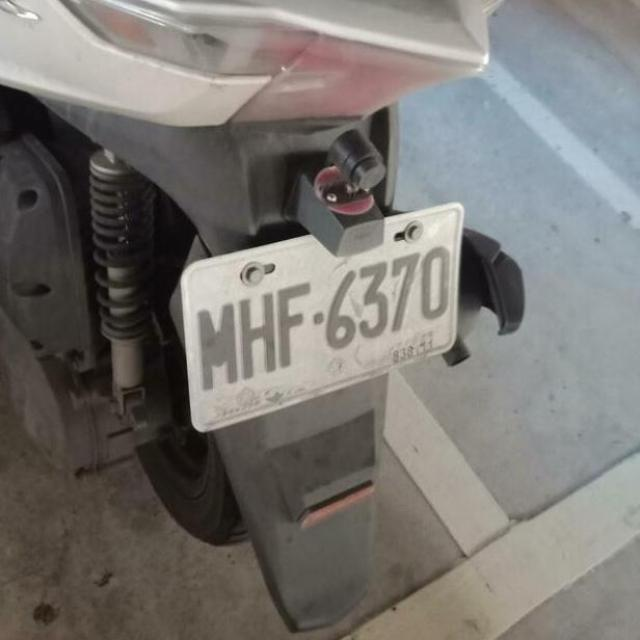W: (158, 204, 479, 446)
